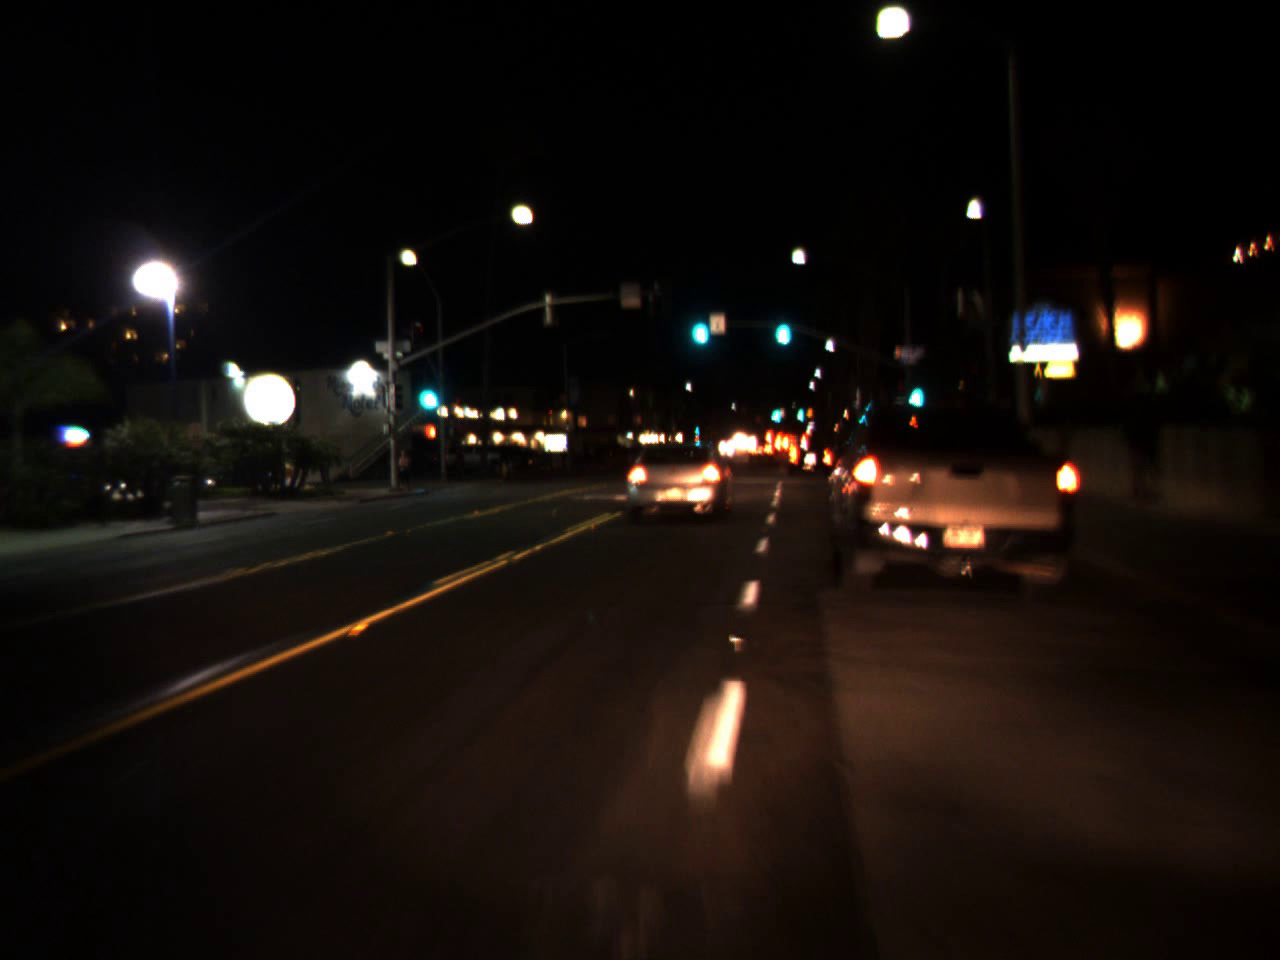go: (411, 364, 443, 418), (685, 295, 712, 352), (769, 302, 794, 347), (905, 366, 926, 414), (767, 392, 783, 428), (794, 396, 804, 423), (693, 416, 700, 437)
